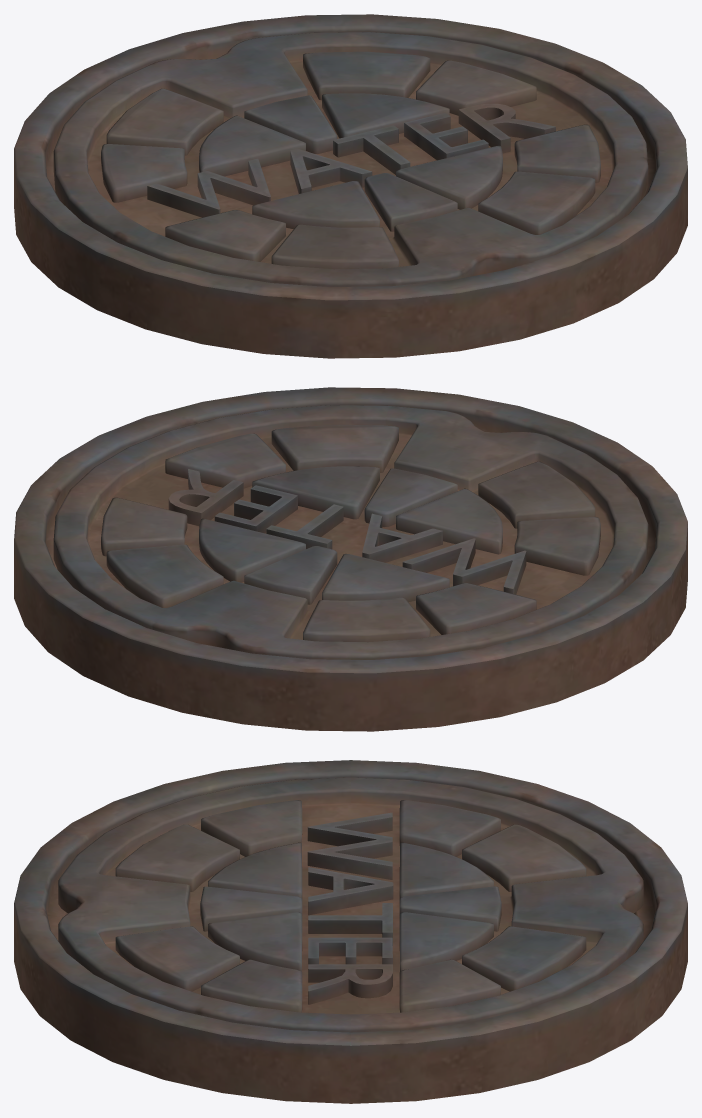
File: water_manhole_cover.glb
The picture shows the model from 3 angles, top to bottom: view 1: azimuth 30°, elevation 25°; view 2: azimuth 150°, elevation 25°; view 3: azimuth 270°, elevation 25°; orthographic projection.
Visible parts, largest first — view 1: water_manhole_cover, water_manhole_cover_frame; view 2: water_manhole_cover, water_manhole_cover_frame; view 3: water_manhole_cover, water_manhole_cover_frame.
Part boxes in pixels (x1,y1,x2,y2): water_manhole_cover: [53, 32, 648, 286]; water_manhole_cover_frame: [14, 14, 687, 358]; water_manhole_cover: [53, 405, 648, 659]; water_manhole_cover_frame: [14, 387, 687, 731]; water_manhole_cover: [58, 777, 643, 1032]; water_manhole_cover_frame: [14, 760, 687, 1103].
Size of the model in its own units: 0.6908 by 0.0676 by 0.6908.
1 material, 1 textured.
